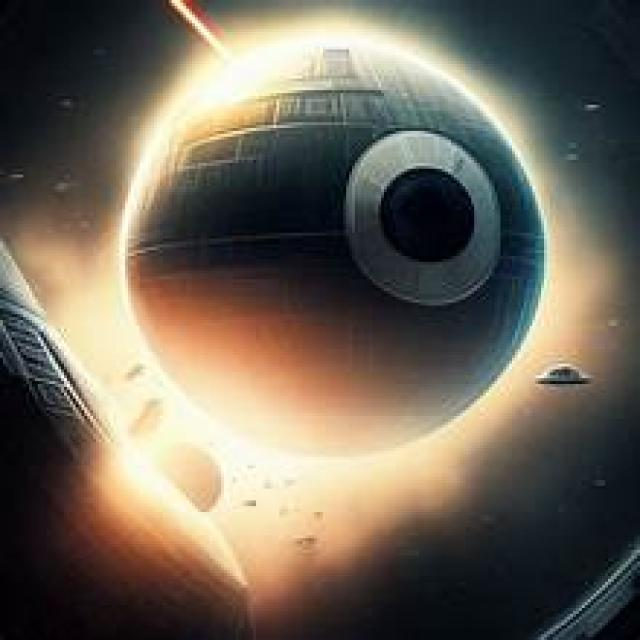deathStar: (118, 29, 546, 467)
